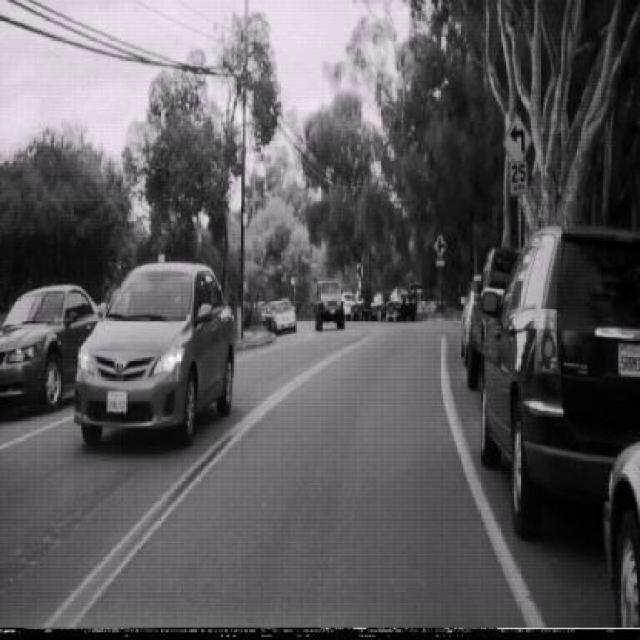turnLeft: (503, 111, 532, 164)
